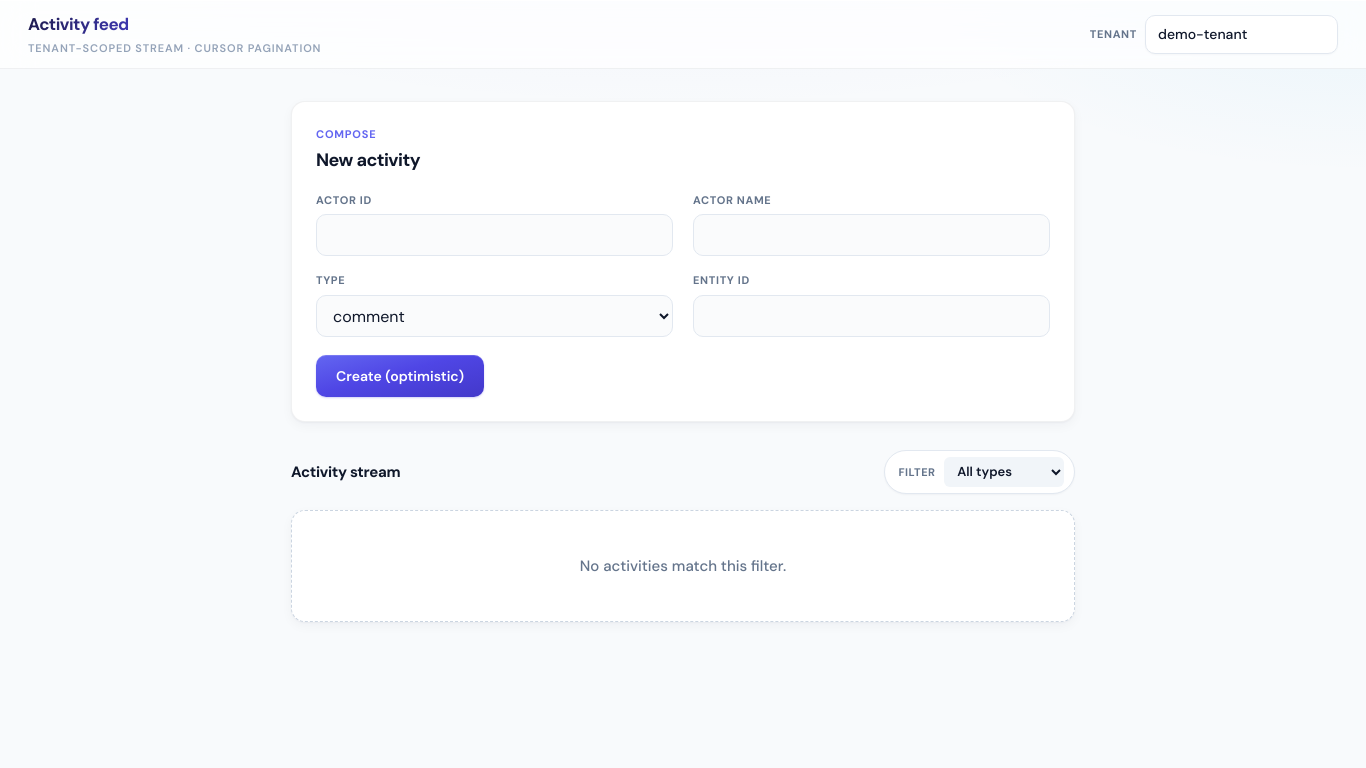
it: Activity feed › rolls back optimistic row when POST fails
Type "a1" into the field named "actorId" at [495, 235], box [316,214,673,256]
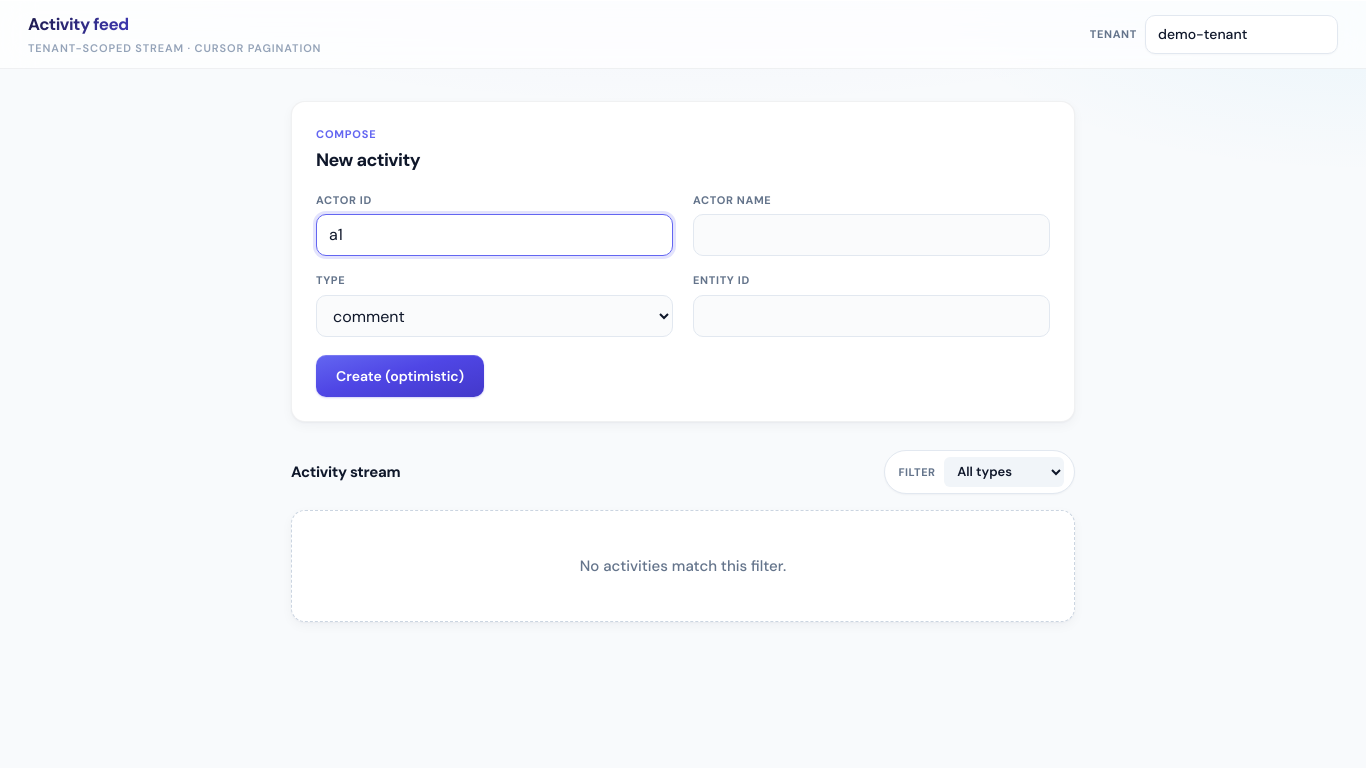
Type "Alex" into the field named "actorName" at [872, 235], box [693,214,1050,256]
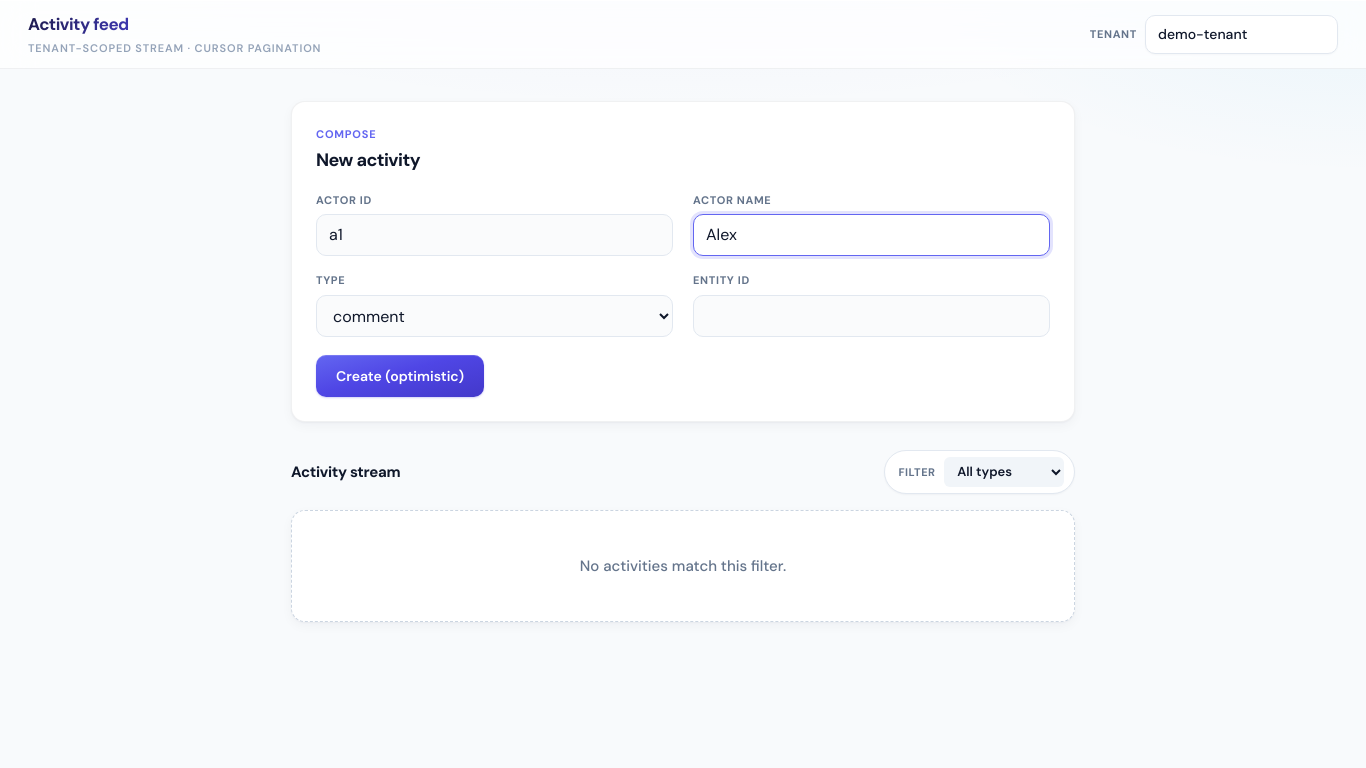
Type "e99" into the field named "entityId" at [872, 316], box [693,295,1050,337]
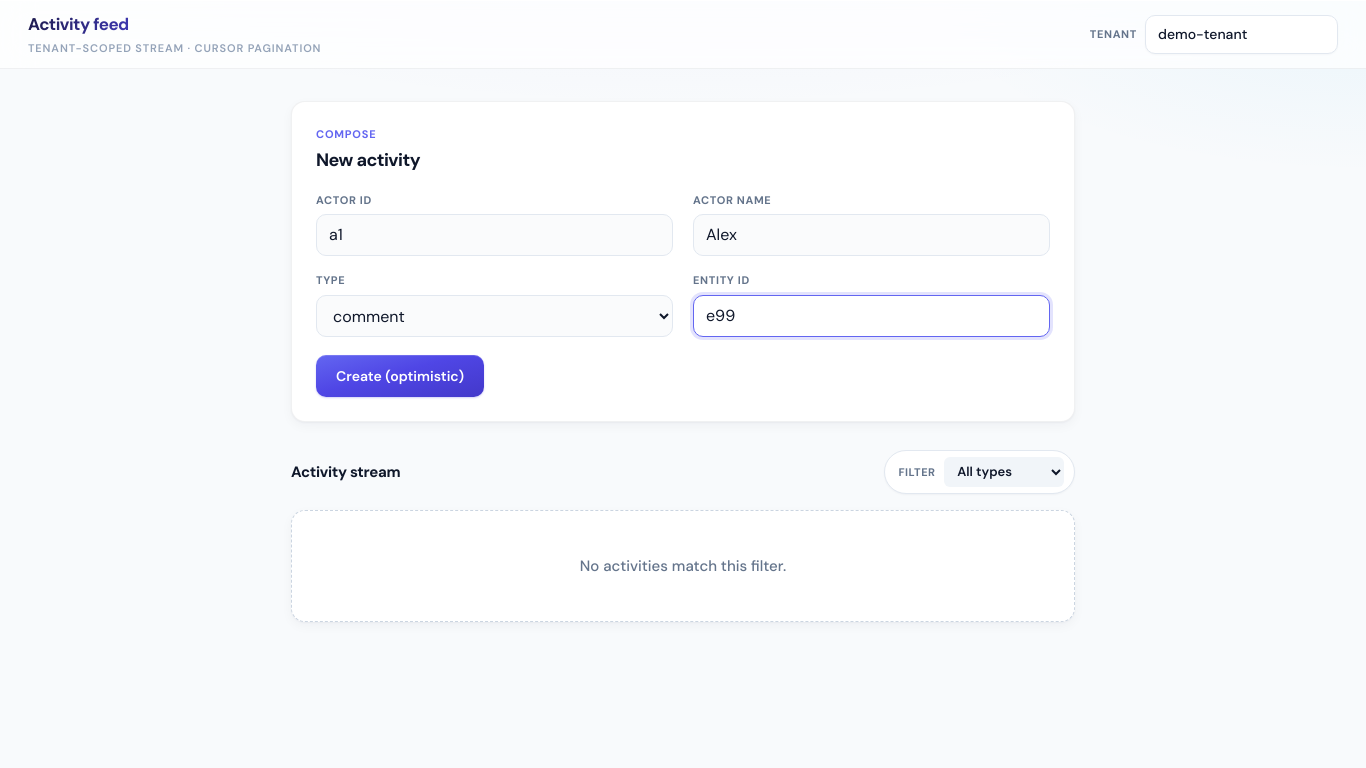
Click the submit button at [400, 376], box [316,355,484,397]
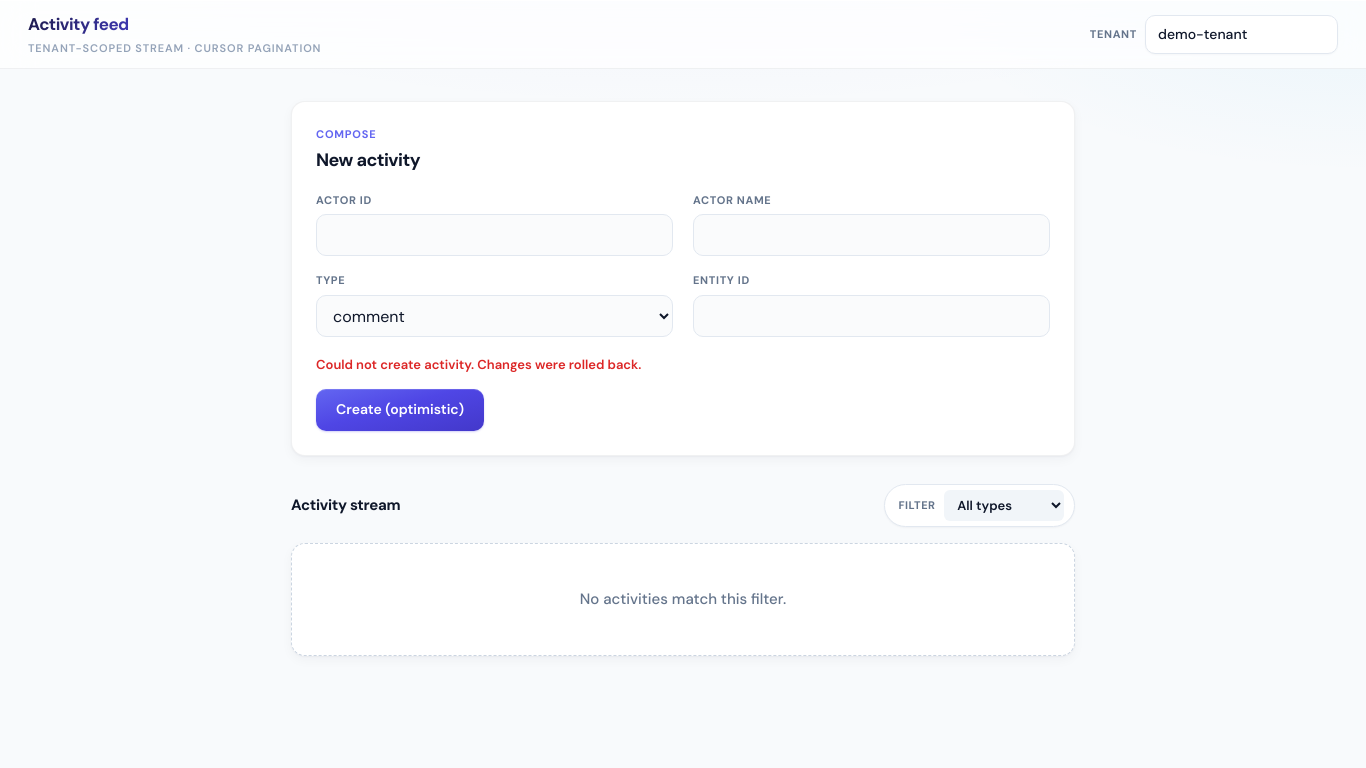
Check: the text "Could not create activity. Changes were rolled back." is shown, box [316,356,641,373]
